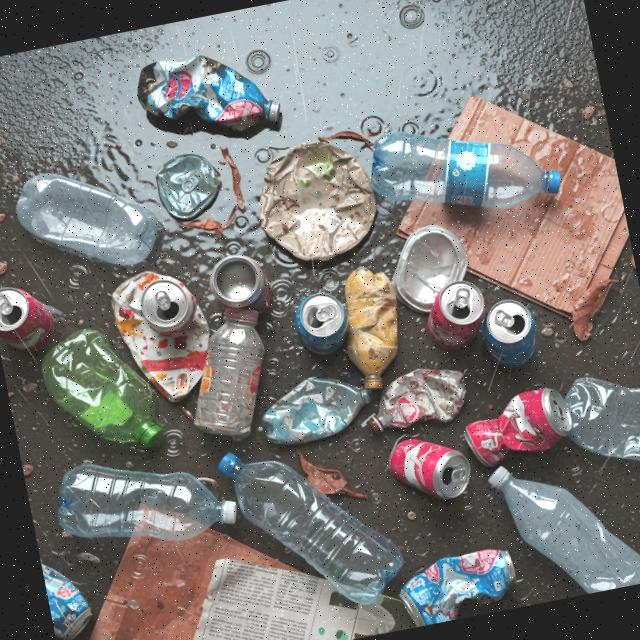aluminum: (105, 264, 221, 406), (459, 380, 575, 470), (384, 422, 480, 516), (474, 291, 546, 377), (422, 273, 498, 351), (158, 148, 227, 222), (0, 278, 60, 354), (294, 286, 352, 354), (209, 249, 269, 314)
plastic: (215, 419, 411, 627), (366, 99, 568, 242), (482, 436, 640, 609), (51, 434, 246, 566), (9, 150, 170, 289), (251, 130, 386, 271), (132, 38, 289, 158), (170, 299, 286, 448), (391, 542, 525, 630), (559, 359, 640, 481), (256, 366, 376, 448), (338, 262, 410, 393), (355, 358, 476, 434), (36, 529, 95, 640)
